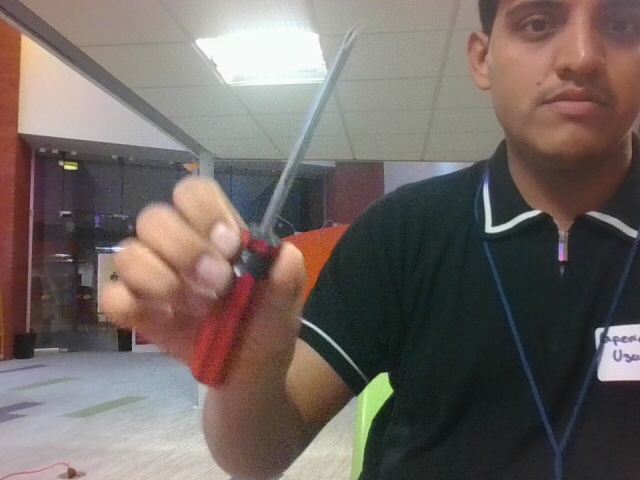destornillador: (187, 26, 361, 386)
